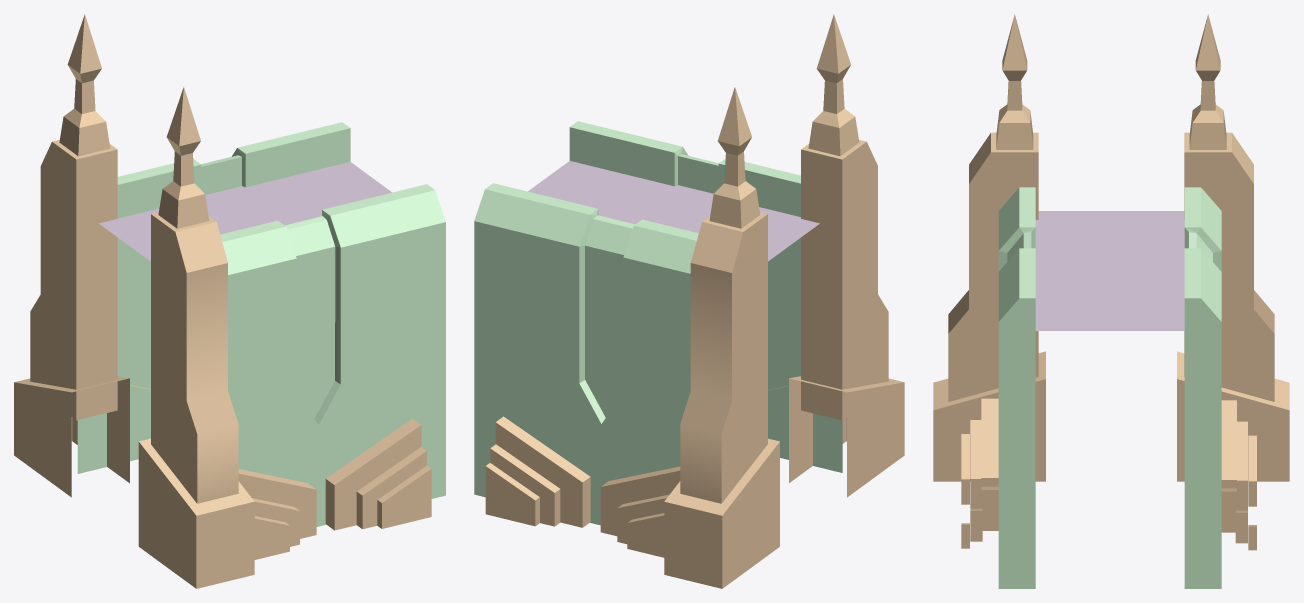
3 views of the same model, side by side, from view 1: azimuth 30°, elevation 25°; view 2: azimuth 150°, elevation 25°; view 3: azimuth 270°, elevation 25° (orthographic). The views are drawn at different scales.
Visible parts, largest first — view 1: Object20; view 2: Object20; view 3: Object20.
Boxes of the visible parts, x1=… form: Object20: x1=14, y1=14, x2=445, y2=588; Object20: x1=474, y1=14, x2=904, y2=588; Object20: x1=933, y1=14, x2=1289, y2=588.
Size of the model in its own units: 239 by 376 by 267.
